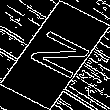N_SE: (17, 25, 93, 85)
